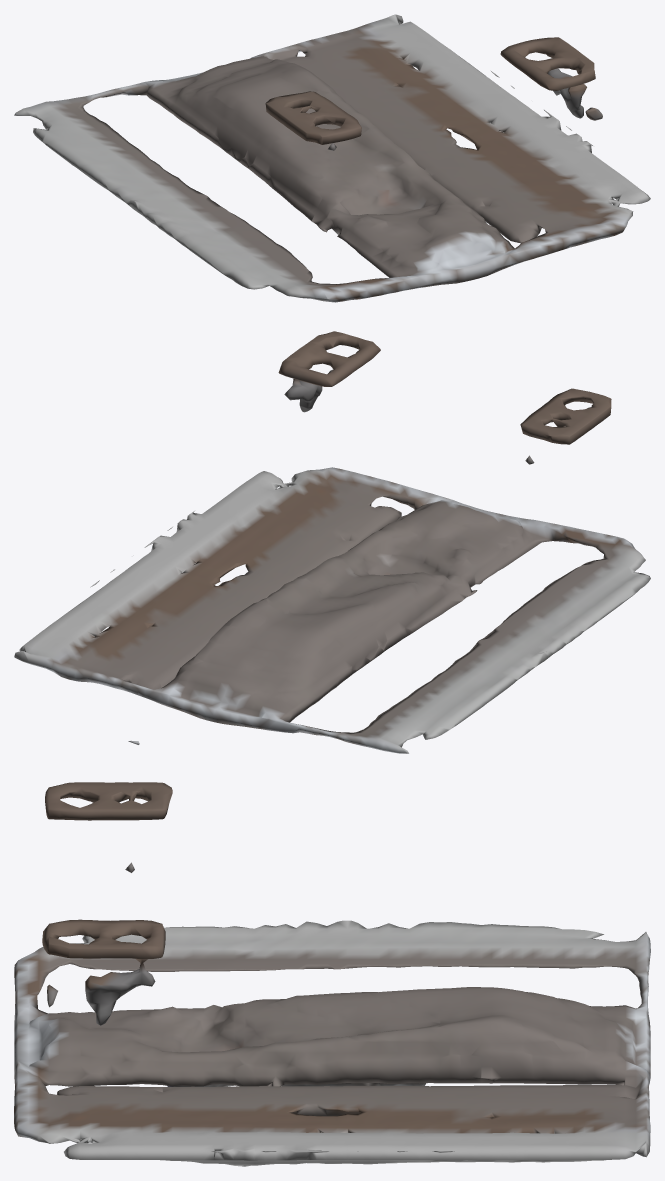
File: a door with pull affordance.obj
3 views of the same model, one above another, from view 1: azimuth 30°, elevation 25°; view 2: azimuth 150°, elevation 25°; view 3: azimuth 270°, elevation 25° (orthographic). The views are drawn at different scales.
Bounding box in the file's own units: 0.8618 × 0.4268 × 1.
